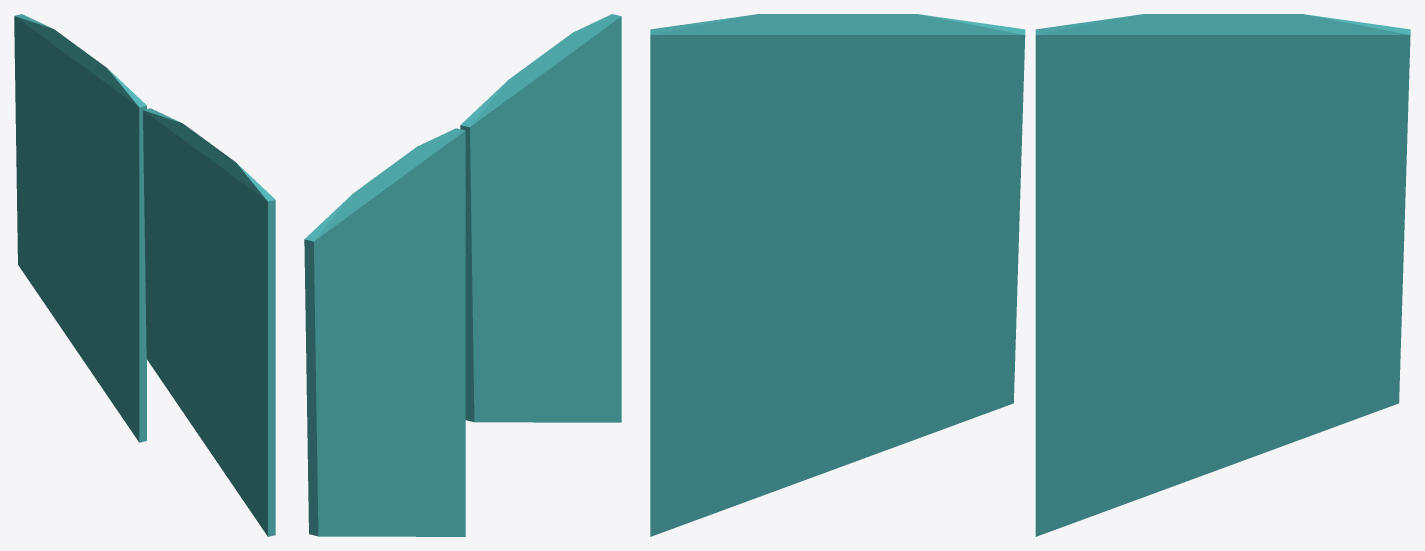
Rendered from Environment_Attachment_Window_A.fbx.
3 renders of one model, left to right at view 1: azimuth 30°, elevation 25°; view 2: azimuth 150°, elevation 25°; view 3: azimuth 270°, elevation 25°, orthographic. The views are drawn at different scales.
Visible parts, largest first — view 1: Environment_Attachment_Window_A; view 2: Environment_Attachment_Window_A; view 3: Environment_Attachment_Window_A.
Part boxes in pixels (<box>): Environment_Attachment_Window_A: <box>14,14,275,536</box>; Environment_Attachment_Window_A: <box>304,14,621,536</box>; Environment_Attachment_Window_A: <box>650,14,1410,536</box>.
Bounding box in the file's own units: 0.019 × 0.8101 × 1.07.
